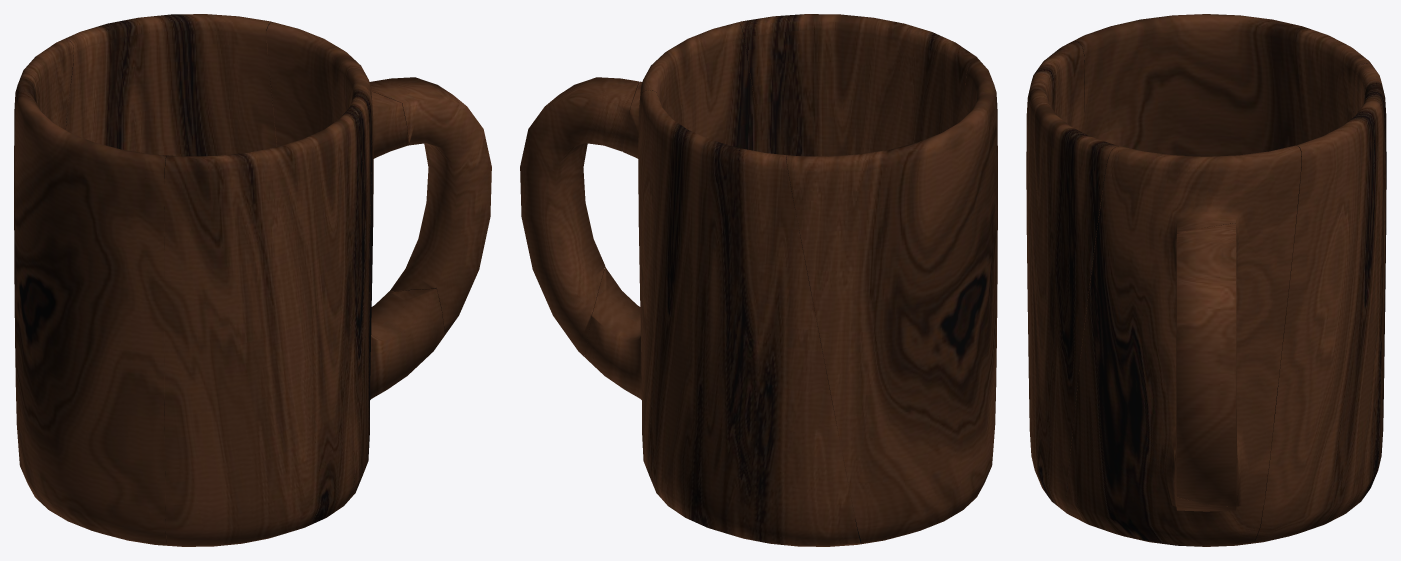
Rendered from BrokenCup.fbx.
3 renders of one model, left to right at view 1: azimuth 30°, elevation 25°; view 2: azimuth 150°, elevation 25°; view 3: azimuth 270°, elevation 25°, orthographic.
Parts seen in each view (by area): view 1: cup03_cell.004, cup03_cell.003, cup03_cell.001, cup03_cell, cup03_cell.002; view 2: cup03_cell.001, cup03_cell.003, cup03_cell.004, cup03_cell.002, cup03_cell; view 3: cup03_cell, cup03_cell.001, cup03_cell.003, cup03_cell.004, cup03_cell.002.
Boxes of the visible parts, x1=… form: cup03_cell.004: x1=164, y1=89, x2=372, y2=546; cup03_cell.003: x1=14, y1=39, x2=169, y2=545; cup03_cell.001: x1=63, y1=14, x2=276, y2=156; cup03_cell: x1=266, y1=22, x2=444, y2=503; cup03_cell.002: x1=369, y1=77, x2=491, y2=334; cup03_cell.001: x1=638, y1=90, x2=861, y2=546; cup03_cell.003: x1=786, y1=61, x2=997, y2=543; cup03_cell.004: x1=739, y1=14, x2=982, y2=156; cup03_cell.002: x1=520, y1=77, x2=638, y2=356; cup03_cell: x1=584, y1=22, x2=762, y2=399; cup03_cell: x1=1066, y1=145, x2=1301, y2=546; cup03_cell.001: x1=1246, y1=63, x2=1386, y2=544; cup03_cell.003: x1=1074, y1=14, x2=1371, y2=156; cup03_cell.004: x1=1026, y1=41, x2=1118, y2=514; cup03_cell.002: x1=1175, y1=223, x2=1238, y2=506.
Bounding box in the file's own units: 315 × 275 × 223.
